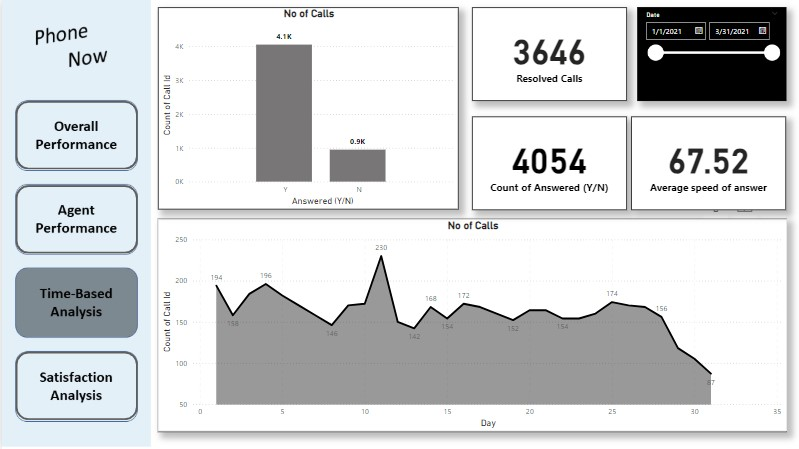

What the dashboard file says about the page in this screenshot:
{"tool":"powerbi","page":{"name":"Time Based","canvas":[1280,720],"ordinal":2},"visuals":[{"type":"actionButton","box":[22,296,196,110],"z":0},{"type":"actionButton","box":[22,564,196,110],"z":1000},{"type":"actionButton","box":[22,162,196,110],"z":2000},{"type":"lineChart","title":"No of Calls","fields":{"Category":["Call.Date.Variation.Date Hierarchy.Day"],"Y":["CountNonNull(Call.Call Id)"]},"box":[250,350,1008,342],"z":3000},{"type":"slicer","fields":{"Values":["Call.Date"]},"box":[1018,12,238,150],"z":4000},{"type":"columnChart","title":"No of Calls","fields":{"Category":["Call.Answered (Y/N)"],"Y":["CountNonNull(Call.Call Id)"]},"box":[250,12,482,324],"z":5000},{"type":"card","fields":{"Values":["CountNonNull(Call.Resolved)"]},"box":[754,12,248,150],"z":5001},{"type":"card","fields":{"Values":["CountNonNull(Call.Answered (Y/N))"]},"box":[754,186,248,150],"z":5002},{"type":"card","fields":{"Values":["Call.Average speed of answer"]},"box":[1008,186,248,150],"z":5003}]}

Visuals, with their boxes in screenshot pixels (x1, y1, x2, y2), scaled from the page's 1280x720 canvas onto the 799x449 screenshot:
actionButton: 14, 185, 136, 253
actionButton: 14, 352, 136, 420
actionButton: 14, 101, 136, 170
"No of Calls" lineChart: 156, 218, 785, 432
slicer - Call.Date: 635, 7, 784, 101
"No of Calls" columnChart: 156, 7, 457, 210
card - CountNonNull(Call.Resolved): 471, 7, 625, 101
card - CountNonNull(Call.Answered (Y/N)): 471, 116, 625, 210
card - Call.Average speed of answer: 629, 116, 784, 210
